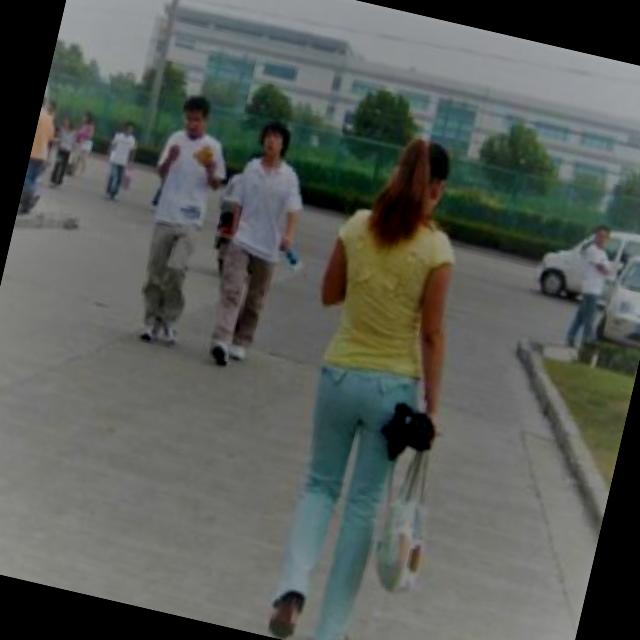Person: (238, 117, 509, 640), (182, 106, 324, 376), (120, 88, 243, 357), (555, 213, 634, 359), (18, 90, 68, 219), (94, 110, 150, 212)
